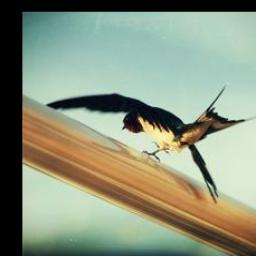Swallow: (41, 82, 256, 204)
